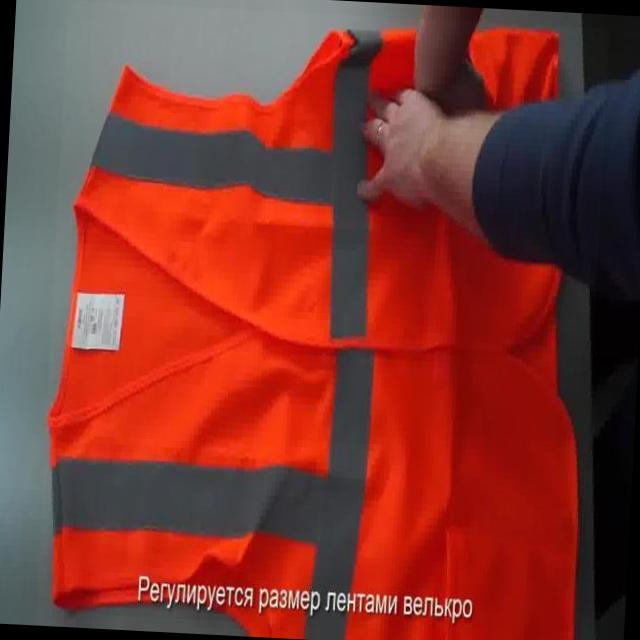Safety Vest: (35, 0, 609, 640)
